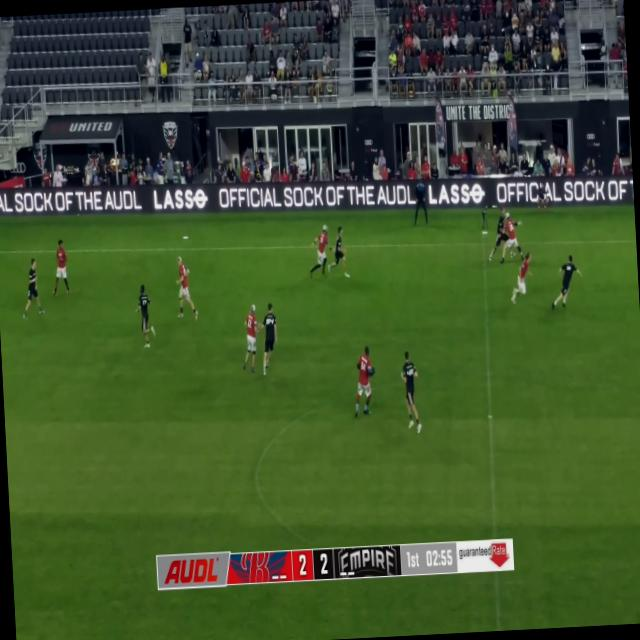Disc: (183, 236, 188, 239), (482, 232, 488, 234)
Player: (351, 344, 379, 419), (398, 351, 422, 433), (551, 253, 586, 309), (176, 253, 202, 324), (260, 302, 281, 379), (508, 250, 536, 304), (242, 303, 263, 374), (484, 209, 512, 259), (22, 258, 44, 320), (136, 283, 157, 347), (326, 226, 351, 278), (499, 212, 524, 262), (52, 237, 71, 298), (308, 226, 330, 276)
